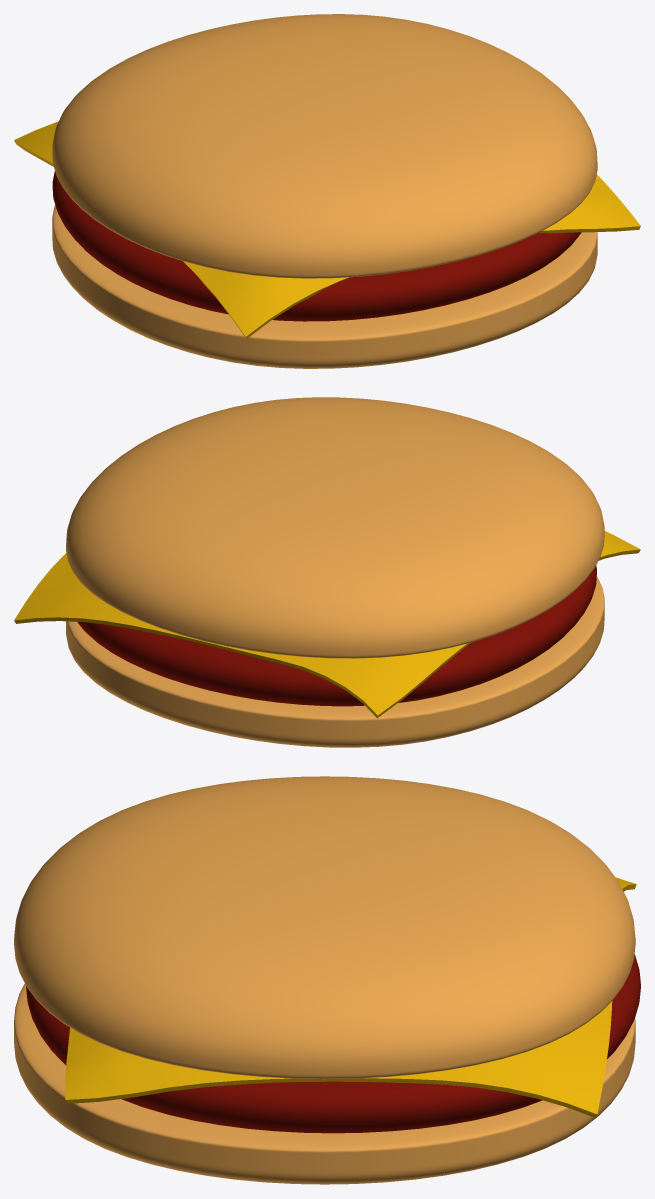
File: hamburger.glb
3 views of the same model, one above another, from view 1: azimuth 30°, elevation 25°; view 2: azimuth 150°, elevation 25°; view 3: azimuth 270°, elevation 25° (orthographic). The views are drawn at different scales.
Parts seen in each view (by area): view 1: 立方体.002, 立方体, 立方体.001, Plane; view 2: 立方体.002, 立方体, 立方体.001, Plane; view 3: 立方体.002, 立方体, 立方体.001, Plane.
Boxes of the visible parts, box(x1,y1,x2,y2) form: 立方体.002: box(52, 14, 597, 278); 立方体: box(52, 205, 597, 368); 立方体.001: box(52, 171, 581, 321); Plane: box(14, 121, 640, 338); 立方体.002: box(66, 397, 604, 658); 立方体: box(66, 576, 604, 747); 立方体.001: box(77, 565, 596, 706); Plane: box(14, 531, 640, 718); 立方体.002: box(14, 776, 635, 1079); 立方体: box(14, 983, 635, 1184); 立方体.001: box(26, 954, 640, 1133); Plane: box(65, 877, 636, 1117).
Bounding box in the file's own units: 9.09 × 3.61 × 9.17.
